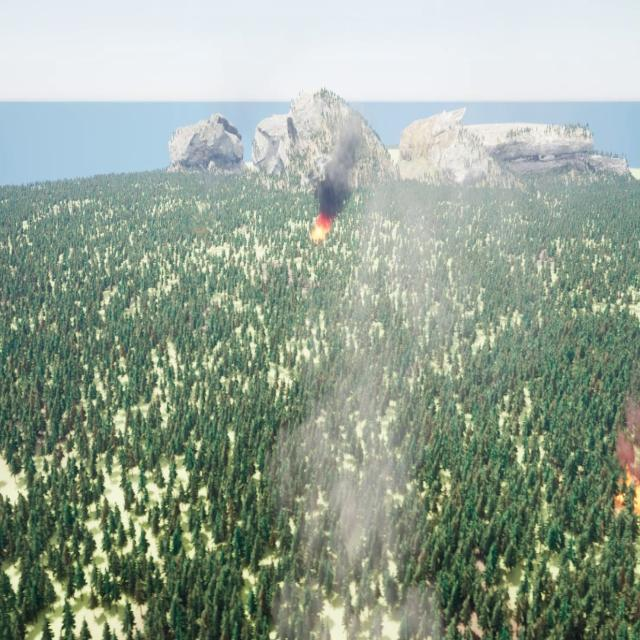fire: (612, 468, 639, 516), (308, 214, 331, 242)
smoke: (278, 186, 444, 636), (316, 115, 366, 212), (616, 396, 640, 470)
